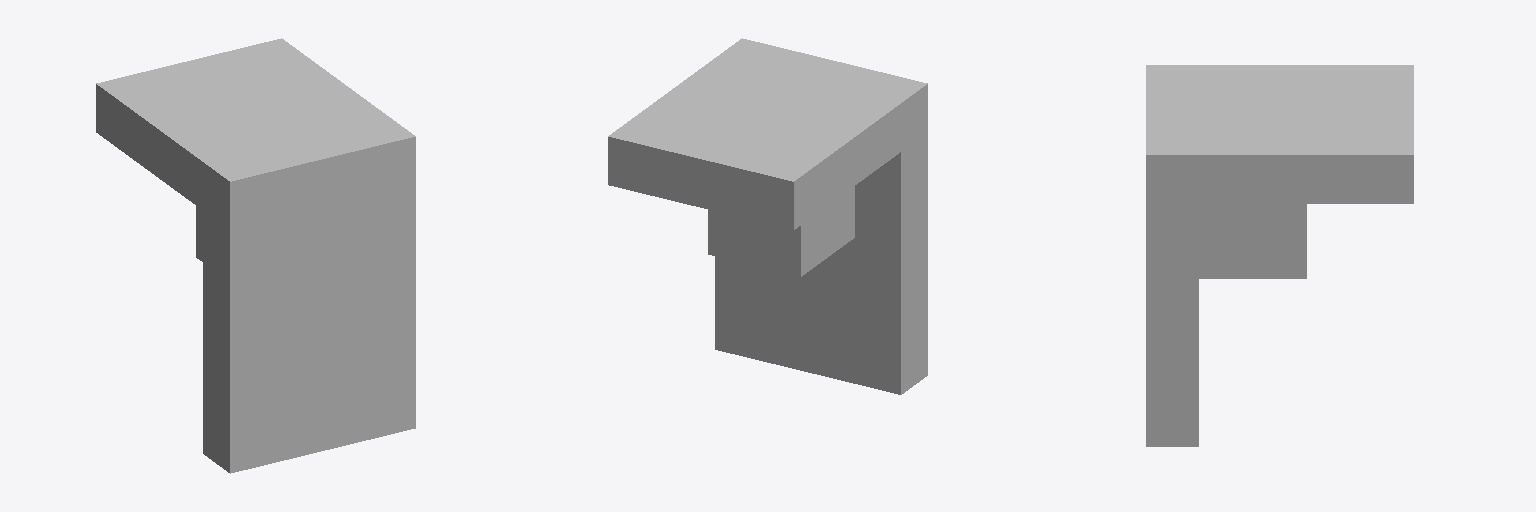
File: Droid_kneeJoint.obj
3 renders of one model, left to right at view 1: azimuth 30°, elevation 25°; view 2: azimuth 150°, elevation 25°; view 3: azimuth 270°, elevation 25°, orthographic.
Parts seen in each view (by area): view 1: object 1; view 2: object 1; view 3: object 1.
Part boxes in pixels (left/top/right/bottom): object 1: left=96, top=38, right=415, bottom=473; object 1: left=608, top=38, right=927, bottom=394; object 1: left=1146, top=65, right=1413, bottom=446.
Size of the model in its own units: 0.4 by 0.6 by 0.5.